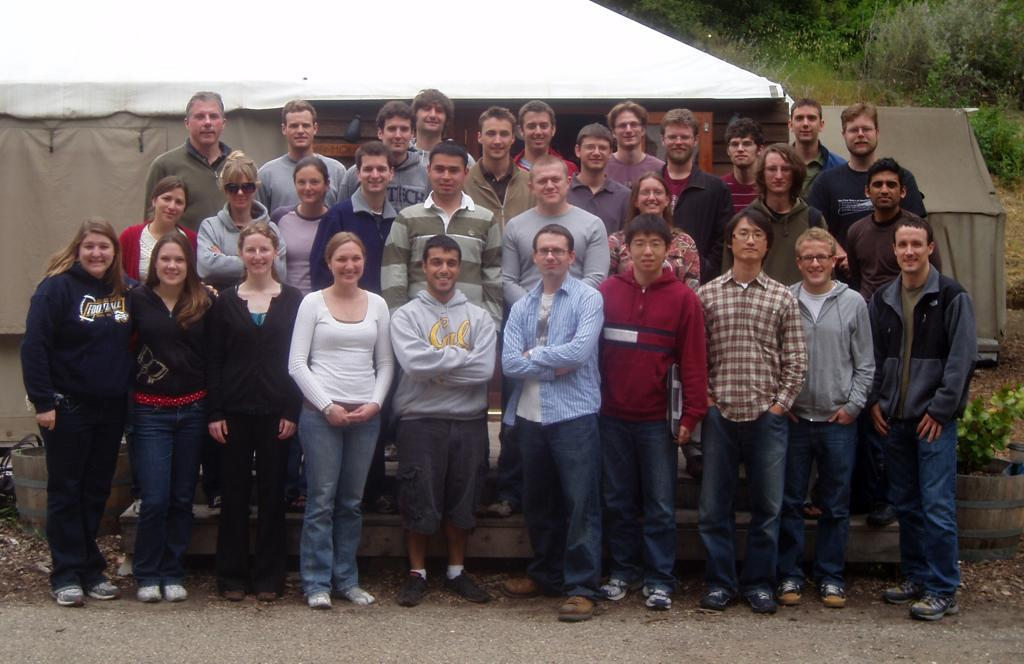face: (189, 104, 223, 143), (426, 250, 459, 290), (896, 230, 927, 272), (733, 224, 768, 260), (430, 158, 464, 195), (332, 248, 365, 286), (800, 245, 832, 284), (632, 235, 666, 271), (80, 237, 114, 273), (536, 238, 569, 275), (534, 170, 569, 204), (242, 239, 274, 276), (158, 247, 188, 285), (665, 123, 696, 159), (482, 121, 512, 158), (764, 155, 794, 192), (870, 174, 901, 209), (359, 158, 390, 192), (846, 120, 877, 154), (295, 172, 326, 205), (523, 114, 552, 149), (226, 172, 254, 208), (285, 113, 313, 147), (157, 192, 187, 223), (638, 181, 666, 214), (383, 119, 411, 152), (417, 101, 446, 132), (792, 110, 821, 141), (581, 139, 610, 169), (730, 135, 757, 166), (615, 114, 642, 145)
